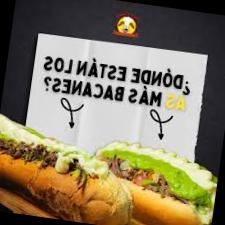Completos: (86, 132, 221, 225)
